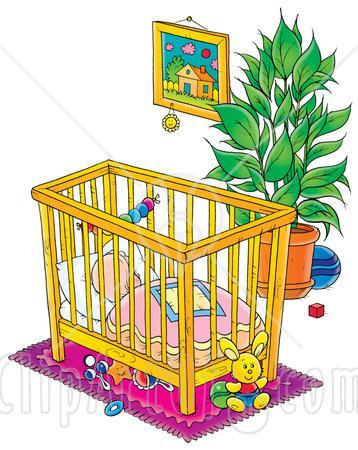person: (88, 248, 142, 306)
pottedplant: (208, 5, 354, 303)
